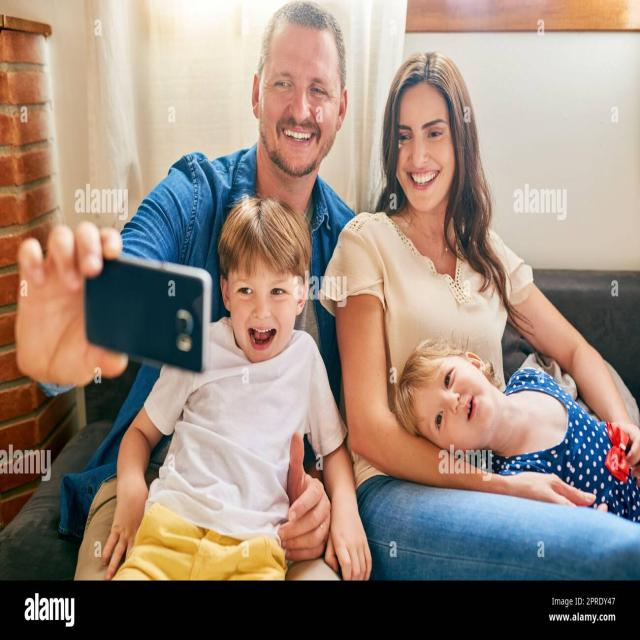no-earmuff: (288, 263, 316, 331), (452, 341, 499, 381), (334, 84, 358, 152), (245, 62, 267, 127), (217, 268, 235, 322)
